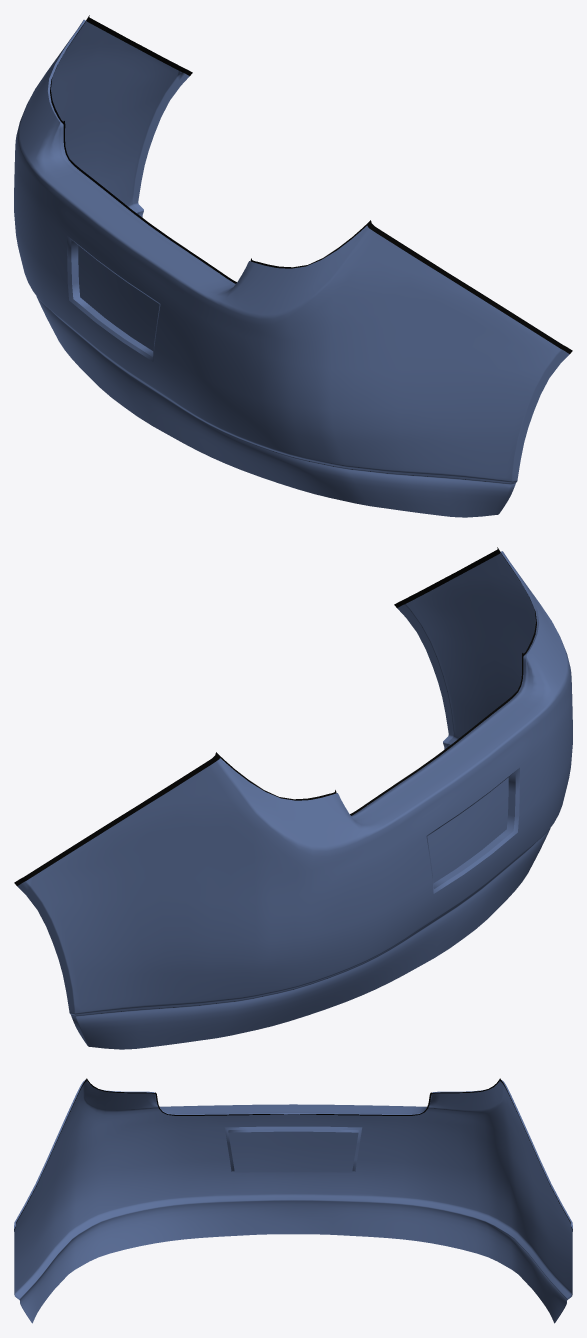
The picture shows the model from 3 angles, top to bottom: view 1: azimuth 30°, elevation 25°; view 2: azimuth 150°, elevation 25°; view 3: azimuth 270°, elevation 25°; orthographic projection. The views are drawn at different scales.
Visible parts, largest first — view 1: U236_17_561G_C_U236_17_561G_C_1_DaS, U236_17_561G_C_U236_17_561G_C_1_DaS_E, U236_17_561G_C_2_D_U236_17_561G_C; view 2: U236_17_561G_C_U236_17_561G_C_1_DaS, U236_17_561G_C_U236_17_561G_C_1_DaS_E, U236_17_561G_C_2_D_U236_17_561G_C; view 3: U236_17_561G_C_U236_17_561G_C_1_DaS, U236_17_561G_C_U236_17_561G_C_1_DaS_E, U236_17_561G_C_2_D_U236_17_561G_C.
Boxes of the visible parts, x1=… form: U236_17_561G_C_U236_17_561G_C_1_DaS: x1=14, y1=20, x2=569, y2=517; U236_17_561G_C_U236_17_561G_C_1_DaS_E: x1=48, y1=19, x2=565, y2=361; U236_17_561G_C_2_D_U236_17_561G_C: x1=50, y1=15, x2=572, y2=353; U236_17_561G_C_U236_17_561G_C_1_DaS: x1=17, y1=552, x2=572, y2=1049; U236_17_561G_C_U236_17_561G_C_1_DaS_E: x1=21, y1=551, x2=538, y2=893; U236_17_561G_C_2_D_U236_17_561G_C: x1=14, y1=547, x2=536, y2=885; U236_17_561G_C_U236_17_561G_C_1_DaS: x1=14, y1=1081, x2=572, y2=1323; U236_17_561G_C_U236_17_561G_C_1_DaS_E: x1=14, y1=1079, x2=572, y2=1229; U236_17_561G_C_2_D_U236_17_561G_C: x1=14, y1=1078, x2=572, y2=1230.
Bounding box in the file's own units: 72.16 × 72.85 × 173.
